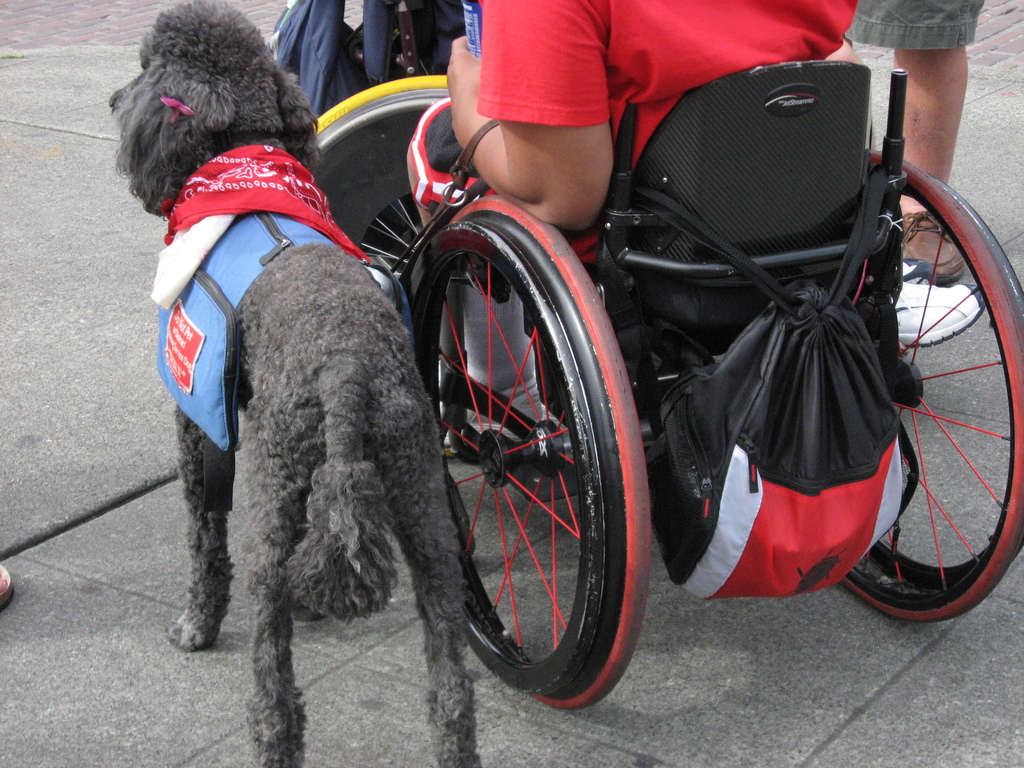Person: (446, 0, 860, 231), (845, 0, 987, 279)
